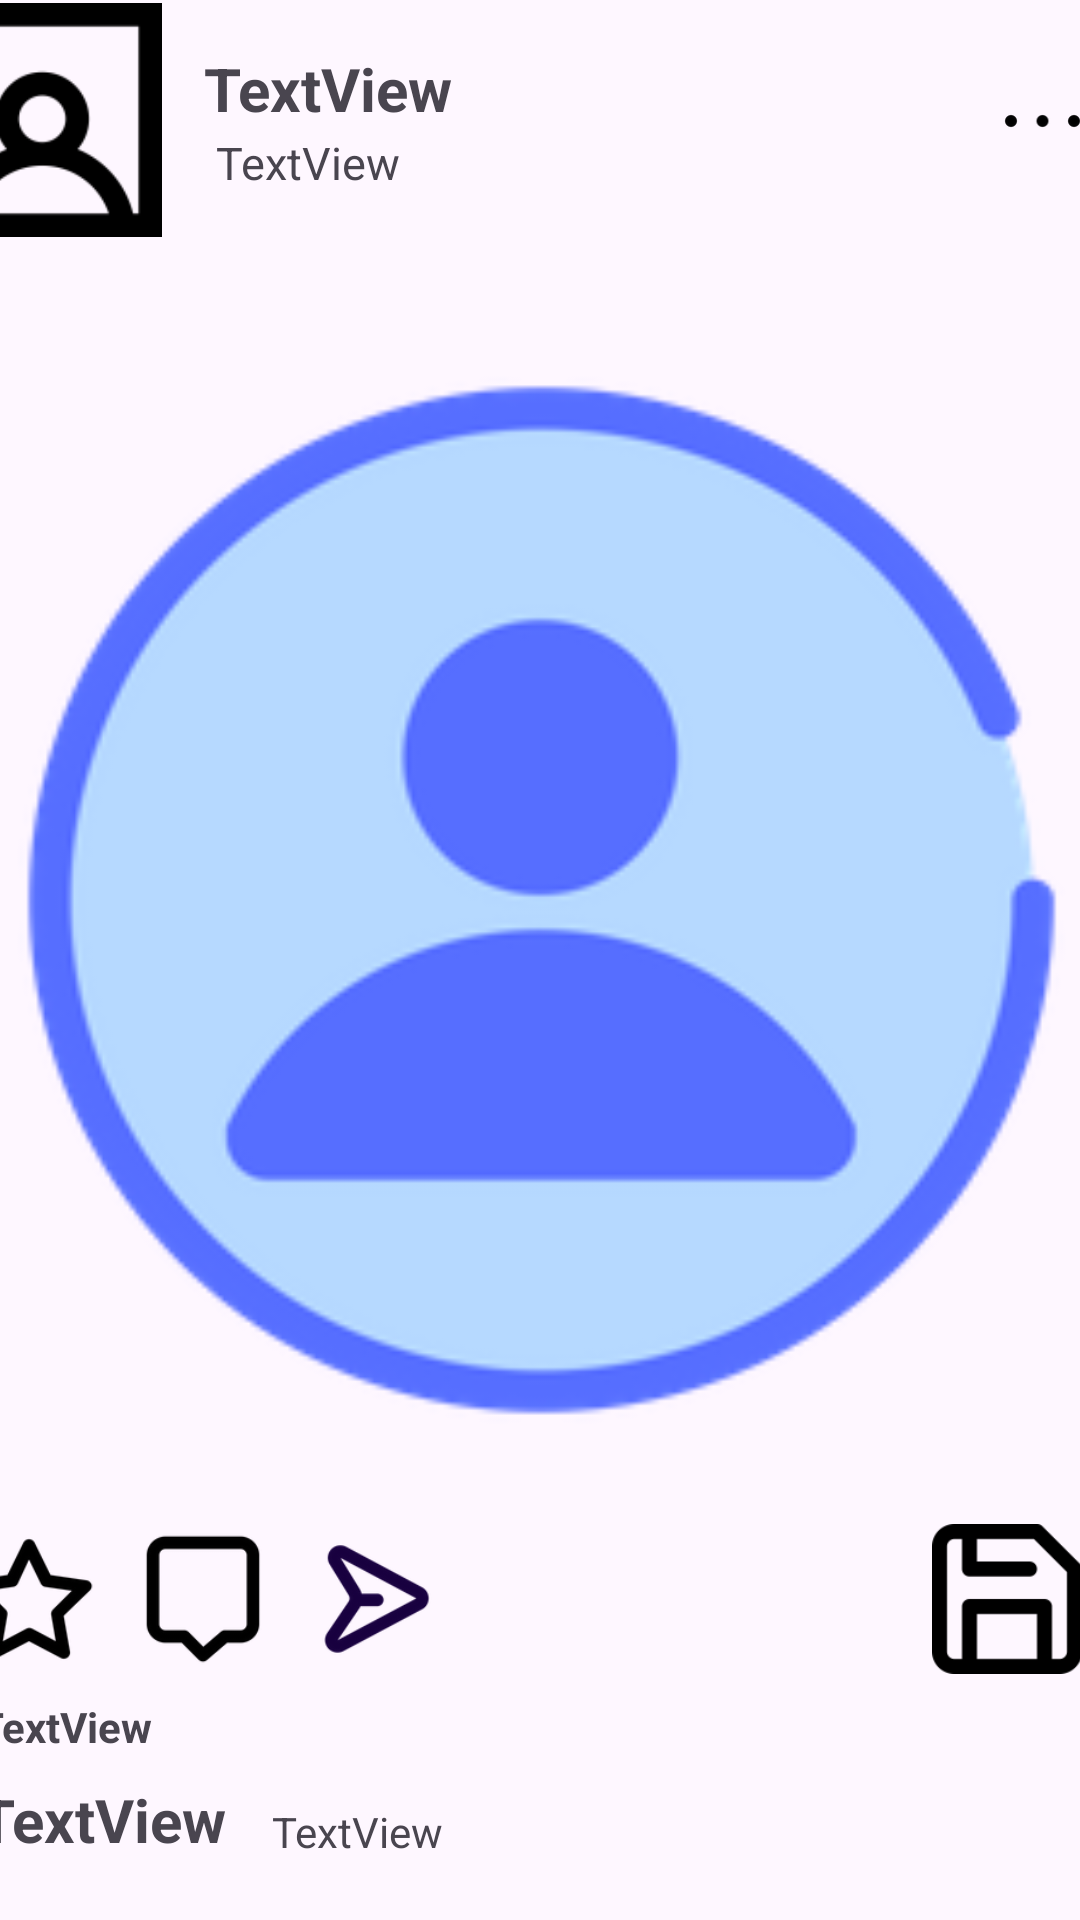

Point at icon controls on the screen. Image size 1080px x 1920px, points as (x=x, y=y).
comment: (x=203, y=1599)
save: (x=1006, y=1599)
share: (x=376, y=1599)
